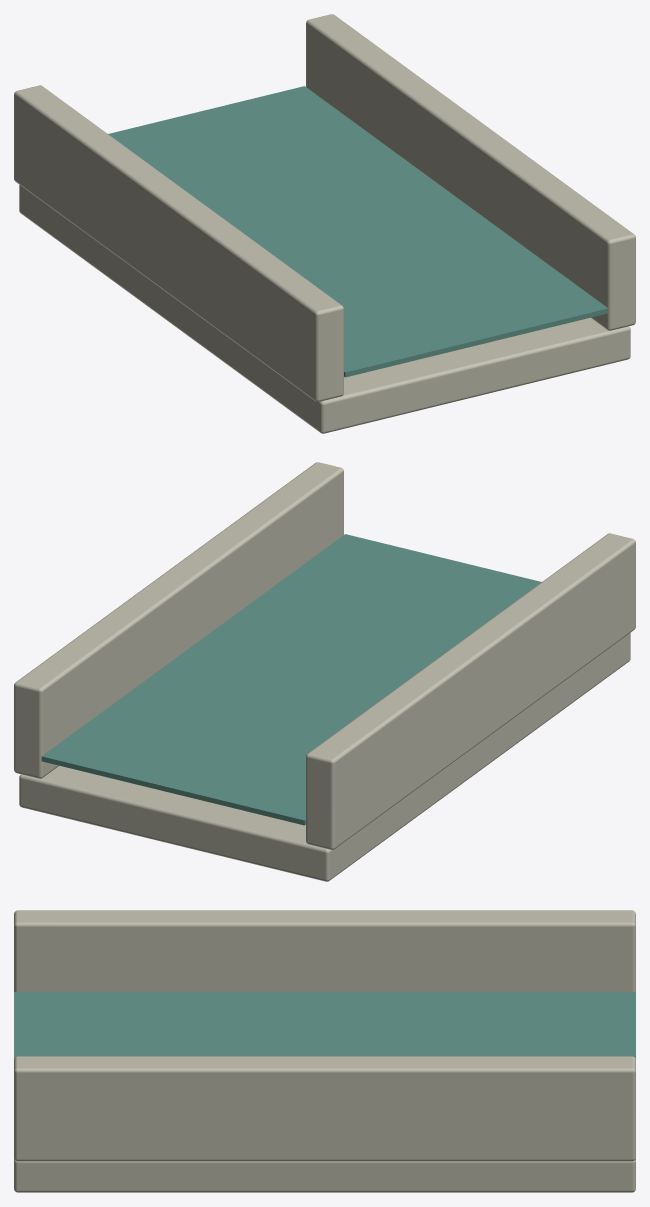
Rendered from leat-straight.glb.
3 views of the same model, one above another, from view 1: azimuth 30°, elevation 25°; view 2: azimuth 150°, elevation 25°; view 3: azimuth 270°, elevation 25° (orthographic). The views are drawn at different scales.
Parts seen in each view (by area): view 1: leat-straight; view 2: leat-straight; view 3: leat-straight.
Boxes of the visible parts, x1=… form: leat-straight: x1=14, y1=14, x2=635, y2=433; leat-straight: x1=14, y1=462, x2=635, y2=881; leat-straight: x1=14, y1=910, x2=635, y2=1192.
Size of the model in its own units: 1.22 by 0.45 by 2.
